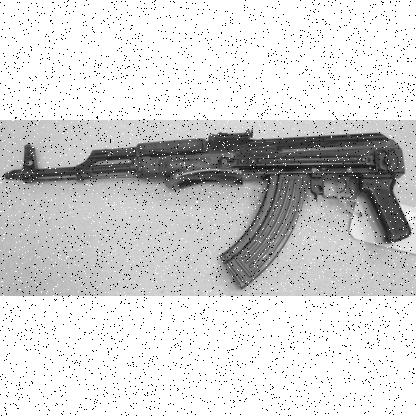gun: (4, 127, 412, 288), (4, 128, 410, 288)
